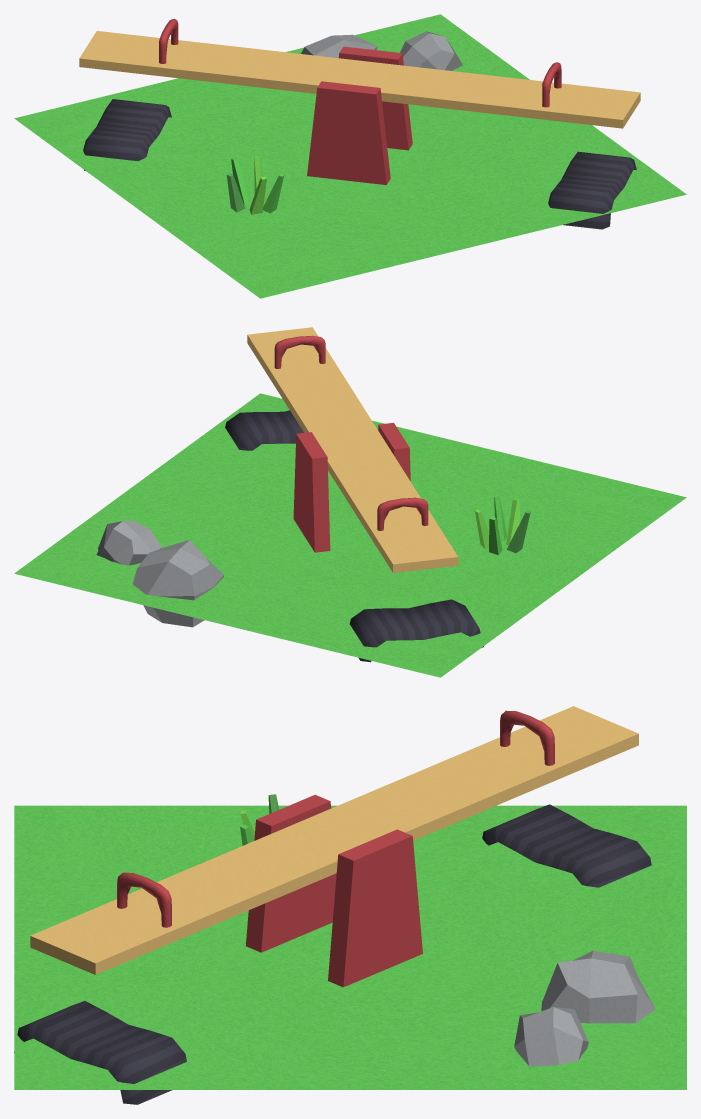
The model's file is park_6.fbx.
3 views of the same model, one above another, from view 1: azimuth 30°, elevation 25°; view 2: azimuth 150°, elevation 25°; view 3: azimuth 270°, elevation 25° (orthographic). The views are drawn at different scales.
Visible parts, largest first — view 1: park_green.014, seesaw.001, grass.027, stone.016, stone.015; view 2: park_green.014, seesaw.001, stone.015, stone.016, grass.027; view 3: park_green.014, seesaw.001, stone.015, stone.016.
Part boxes in pixels (x1=…): park_green.014: x1=14, y1=14, x2=686, y2=298; seesaw.001: x1=79, y1=19, x2=640, y2=229; grass.027: x1=226, y1=156, x2=284, y2=214; stone.016: x1=400, y1=31, x2=462, y2=70; stone.015: x1=301, y1=34, x2=377, y2=58; park_green.014: x1=14, y1=393, x2=686, y2=677; seesaw.001: x1=225, y1=327, x2=483, y2=662; stone.015: x1=132, y1=540, x2=223, y2=627; stone.016: x1=96, y1=521, x2=161, y2=565; grass.027: x1=475, y1=496, x2=530, y2=555; park_green.014: x1=14, y1=805, x2=686, y2=1089; seesaw.001: x1=14, y1=706, x2=651, y2=1104; stone.015: x1=541, y1=950, x2=655, y2=1023; stone.016: x1=514, y1=1007, x2=588, y2=1066.
Bounding box in the file's own units: 2 × 0.652 × 2.
2 materials, 2 textured.
